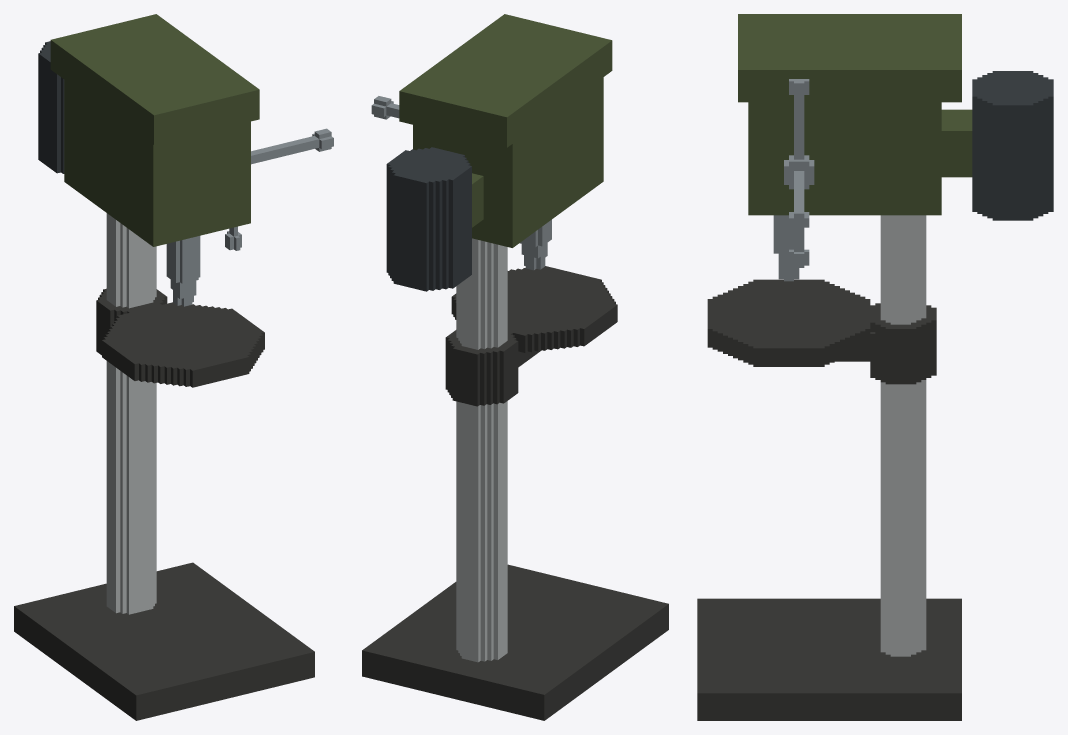
The model's file is drill_press.glb.
3 renders of one model, left to right at view 1: azimuth 30°, elevation 25°; view 2: azimuth 150°, elevation 25°; view 3: azimuth 270°, elevation 25°, orthographic. The views are drawn at different scales.
Parts seen in each view (by area): view 1: drill_press:compound; view 2: drill_press:compound; view 3: drill_press:compound.
Part boxes in pixels (x1,y1,x2,y2): drill_press:compound: [14, 14, 333, 720]; drill_press:compound: [362, 14, 668, 720]; drill_press:compound: [697, 14, 1053, 720].
Size of the model in its own units: 0.59 by 1.37 by 0.7.
